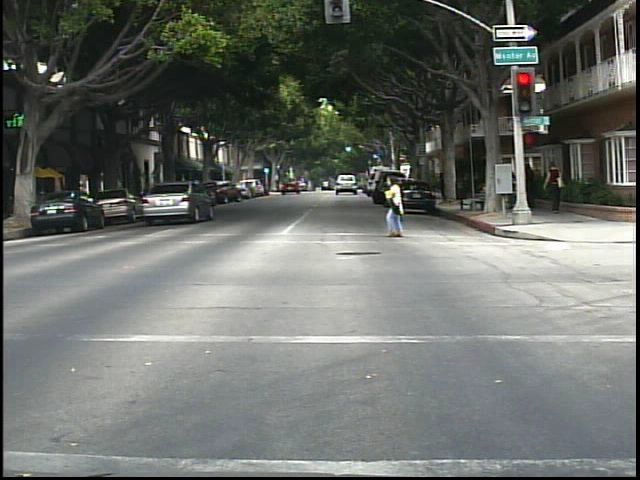person: (380, 173, 416, 241), (544, 158, 568, 219), (522, 158, 544, 216)
